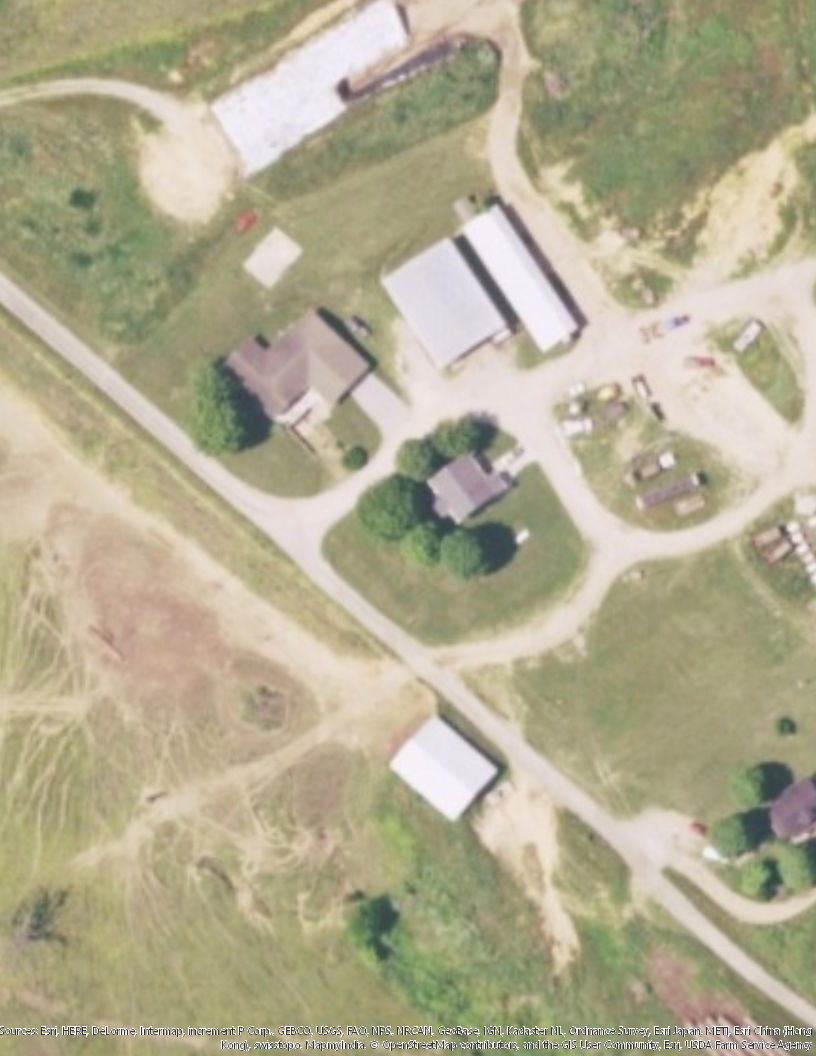cafo: (458, 191, 596, 353), (379, 232, 517, 375), (388, 708, 503, 831)
